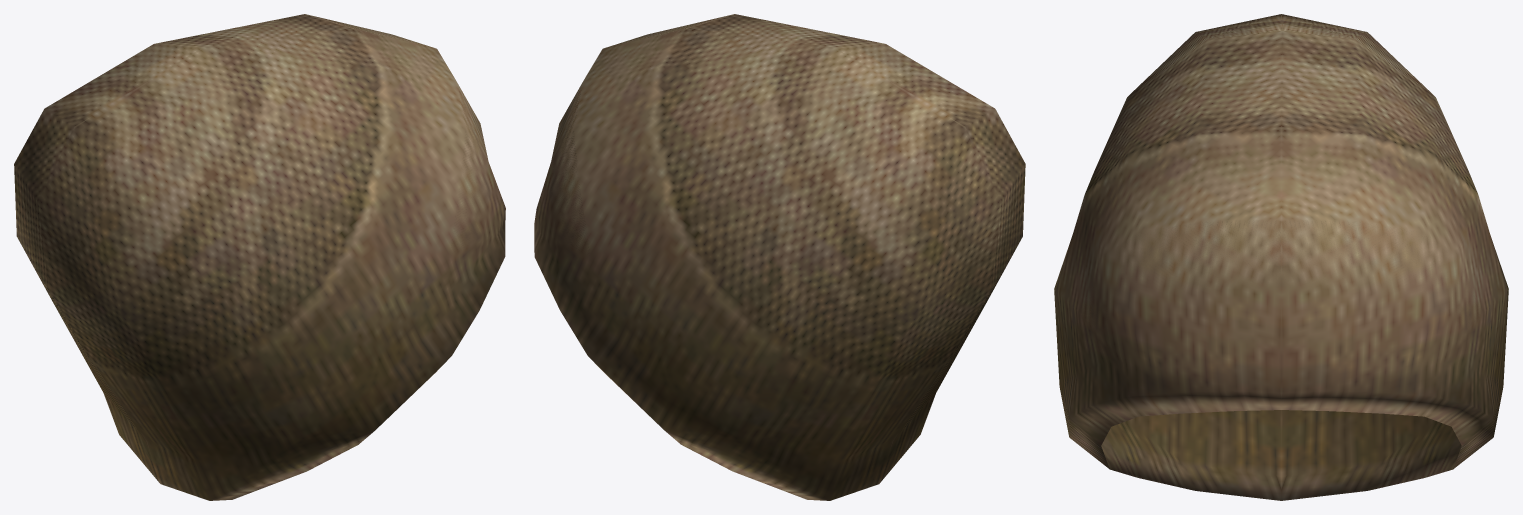
The model's file is hat_0400039.FBX.
3 views of the same model, side by side, from view 1: azimuth 30°, elevation 25°; view 2: azimuth 150°, elevation 25°; view 3: azimuth 270°, elevation 25° (orthographic). The views are drawn at different scales.
Visible parts, largest first — view 1: hat_0400039; view 2: hat_0400039; view 3: hat_0400039.
Boxes of the visible parts, x1=… form: hat_0400039: x1=14, y1=14, x2=505, y2=500; hat_0400039: x1=534, y1=14, x2=1025, y2=500; hat_0400039: x1=1054, y1=14, x2=1508, y2=500.
Size of the model in its own units: 30.34 by 28.79 by 24.73.
